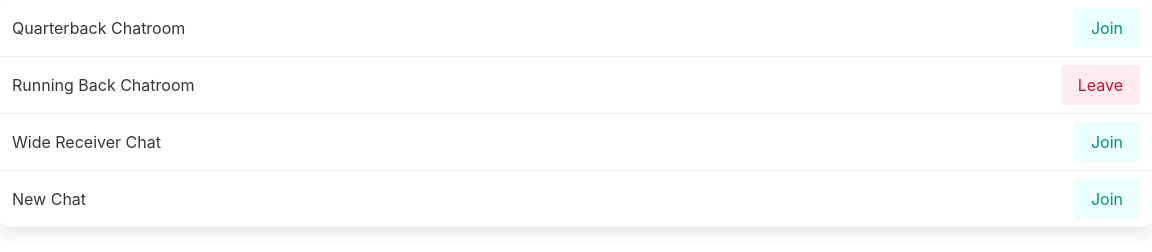
ChatroomList › joins a chatroom
The width and height of the screenshot is (1152, 252).
Click the button "Join" in the row of "Quarterback Chatroom": (1107, 28) [1074,8,1140,48]
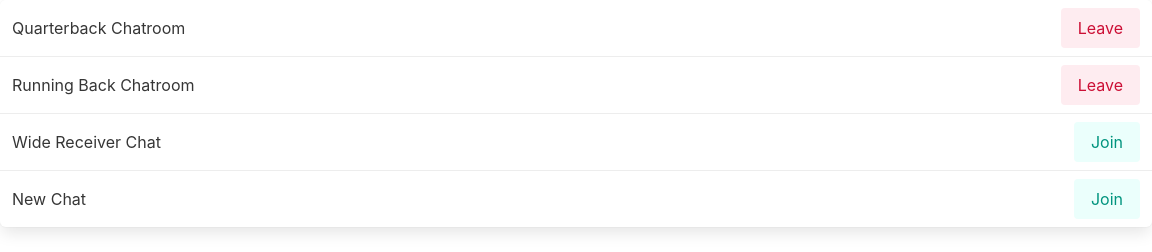
Expected: the button "Leave" in the row of "Quarterback Chatroom" is shown
Click the button "Leave" in the row of "Quarterback Chatroom": (1100, 28) [1061,8,1140,48]
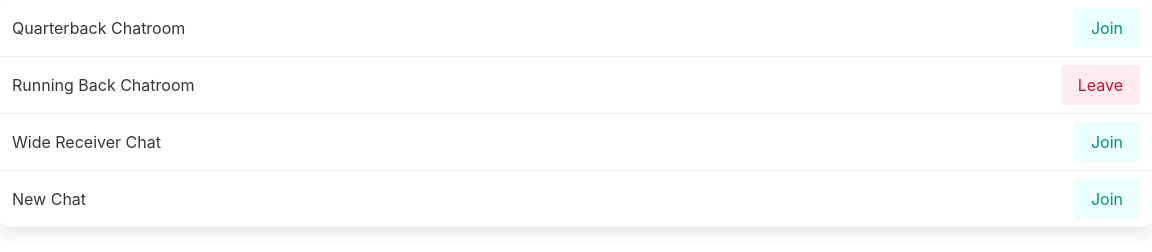
Expected: the button "Join" in the row of "Quarterback Chatroom" is shown, [1074,8,1140,48]
